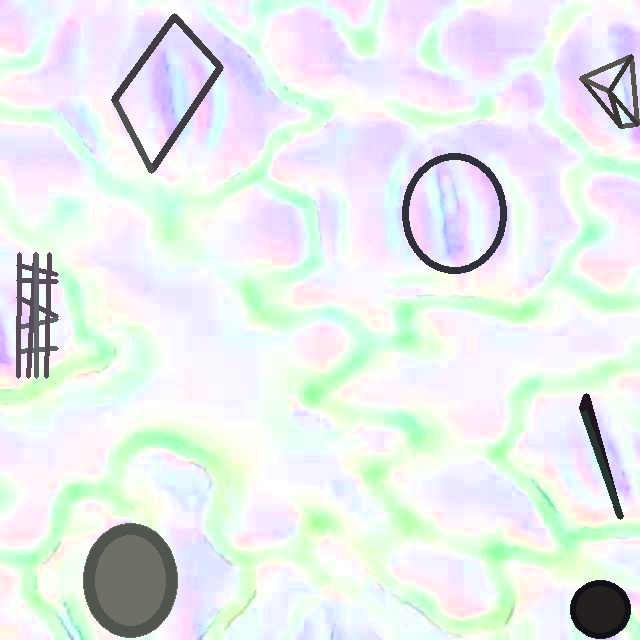close: (83, 523, 177, 637), (16, 252, 58, 378)
open: (111, 13, 223, 173), (402, 153, 506, 272), (580, 394, 620, 519), (579, 54, 639, 128), (571, 580, 630, 638)
